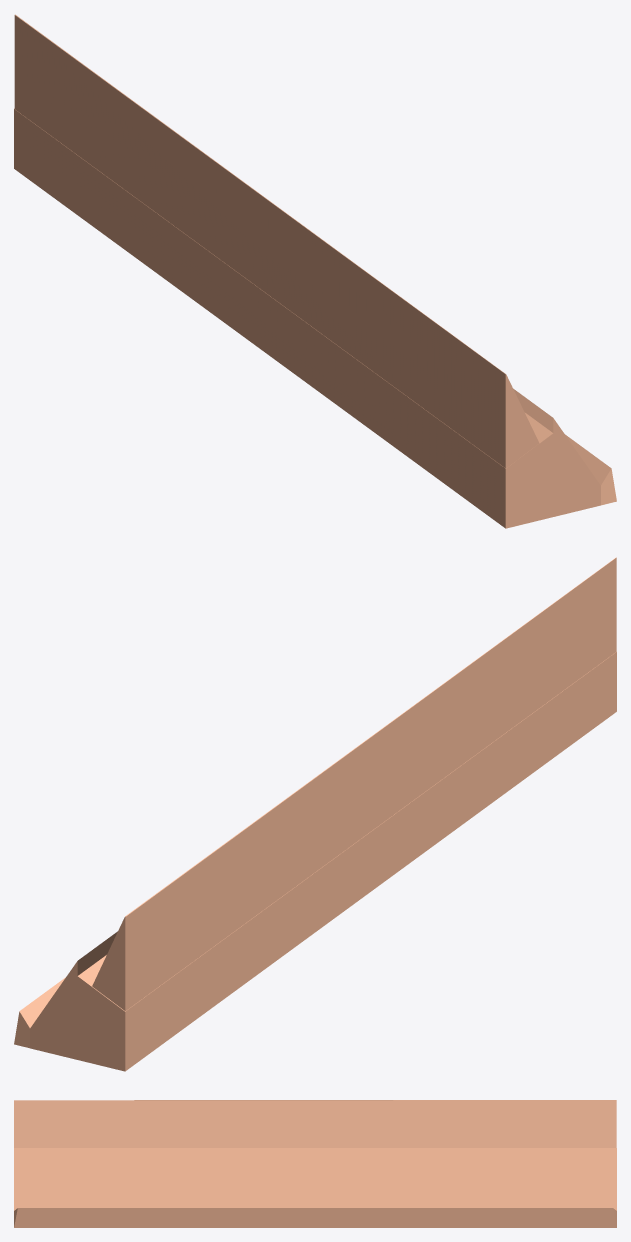
Rendered from cube_table.fbx.
The picture shows the model from 3 angles, top to bottom: view 1: azimuth 30°, elevation 25°; view 2: azimuth 150°, elevation 25°; view 3: azimuth 270°, elevation 25°; orthographic projection. The views are drawn at different scales.
Parts seen in each view (by area): view 1: 큐브; view 2: 큐브; view 3: 큐브.
Part boxes in pixels (x1=…): 큐브: x1=14, y1=14, x2=616, y2=528; 큐브: x1=14, y1=557, x2=616, y2=1071; 큐브: x1=14, y1=1100, x2=616, y2=1227.
Bounding box in the file's own units: 375 × 498 × 2871.
